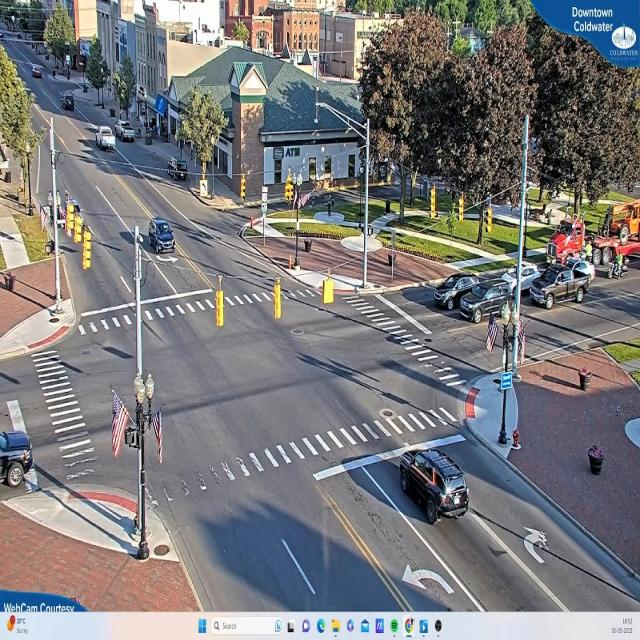car: (400, 449, 473, 523), (526, 258, 594, 309), (460, 284, 513, 323), (433, 275, 482, 308), (507, 252, 538, 292), (147, 218, 175, 252), (97, 128, 115, 150), (120, 125, 136, 144), (61, 94, 75, 110), (32, 66, 42, 78)
